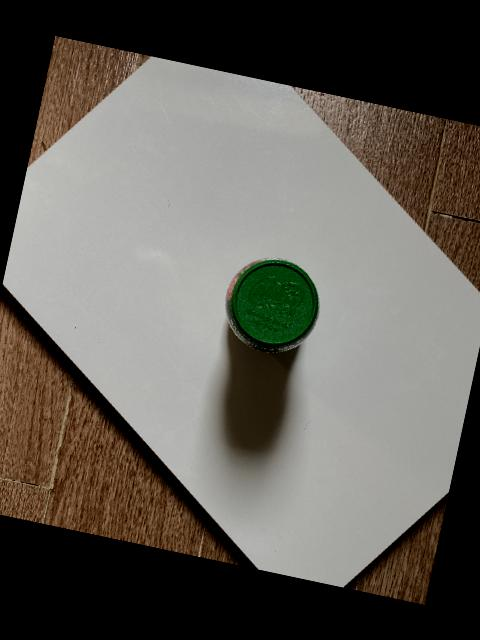milo: (223, 257, 318, 352)
